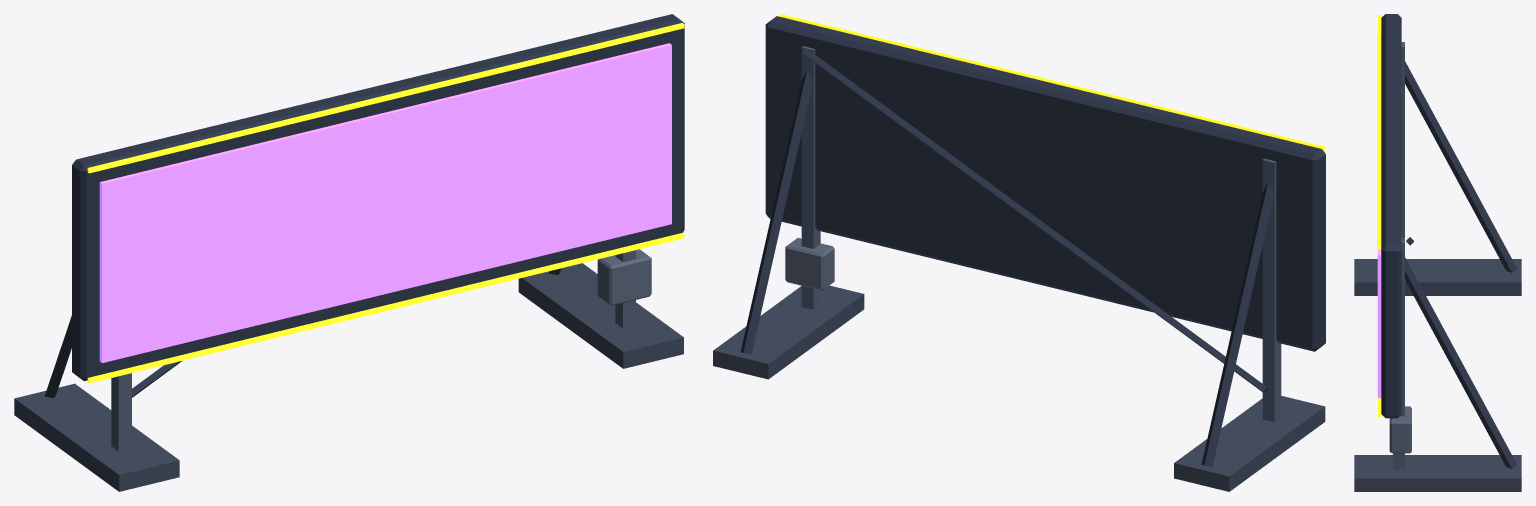
Rendered from city_neon_sign_frame.glb.
3 renders of one model, left to right at view 1: azimuth 30°, elevation 25°; view 2: azimuth 150°, elevation 25°; view 3: azimuth 270°, elevation 25°, orthographic. The views are drawn at different scales.
Parts seen in each view (by area): view 1: blank_panel, panel_housing, foot, foot.001, amber_edge, amber_edge.001, junction_box, upright, rear_brace; view 2: panel_housing, foot, foot.001, diagonal, upright, rear_brace, rear_brace.001, upright.001, amber_edge.001, junction_box; view 3: panel_housing, foot.001, foot, rear_brace.001, rear_brace, blank_panel, upright.001, junction_box, upright, amber_edge.001.
Part boxes in pixels (x1,y1,x2,y2): blank_panel: [99, 43, 671, 362]; panel_housing: [72, 14, 684, 381]; foot: [14, 383, 179, 491]; foot.001: [518, 263, 683, 368]; amber_edge: [87, 233, 684, 383]; amber_edge.001: [87, 23, 684, 173]; junction_box: [597, 249, 651, 305]; upright: [111, 373, 131, 451]; rear_brace: [44, 315, 71, 397]; panel_housing: [765, 16, 1325, 351]; foot: [1174, 396, 1325, 491]; foot.001: [713, 285, 864, 379]; diagonal: [802, 48, 1267, 392]; upright: [1262, 158, 1281, 422]; rear_brace: [1201, 180, 1273, 467]; rear_brace.001: [740, 68, 812, 354]; upright.001: [801, 46, 820, 309]; amber_edge.001: [780, 14, 1325, 151]; junction_box: [785, 238, 834, 290]; panel_housing: [1381, 14, 1401, 418]; foot.001: [1354, 455, 1521, 491]; foot: [1354, 259, 1521, 295]; rear_brace.001: [1405, 257, 1516, 468]; rear_brace: [1405, 61, 1516, 272]; blank_panel: [1377, 34, 1381, 398]; upright.001: [1393, 238, 1404, 469]; junction_box: [1389, 406, 1411, 453]; upright: [1401, 42, 1404, 237]; amber_edge.001: [1378, 15, 1380, 249].
Size of the model in its own units: 6 by 3 by 1.8.
